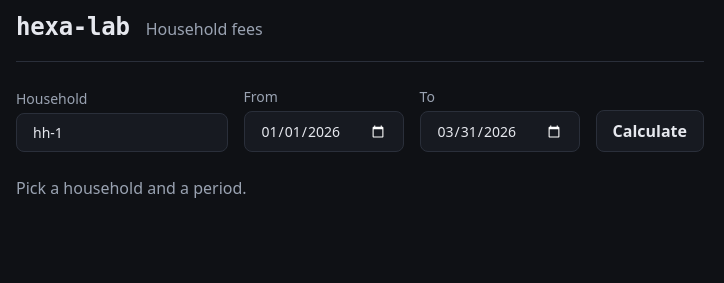
error: 400 INVALID_BILLING_PERIOD shows the code and the server's message
This screenshot has width=724, height=283.
Click the button "Calculate" at coordinates (650, 131), box x1=596 y1=110 x2=704 y2=152
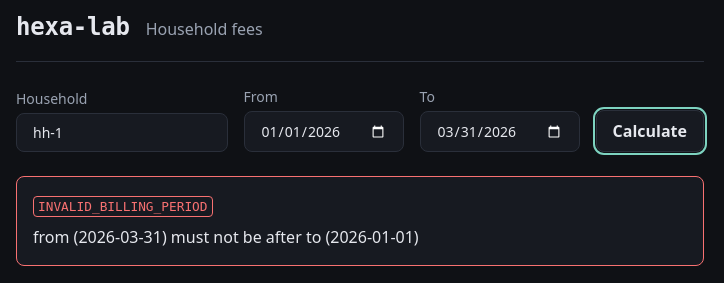
Expected: the text "INVALID_BILLING_PERIOD" is shown, x1=33 y1=196 x2=212 y2=217
Expected: the text "from (2026-03-31) must not be after to (2026-01-01)" is shown, x1=33 y1=226 x2=419 y2=248
